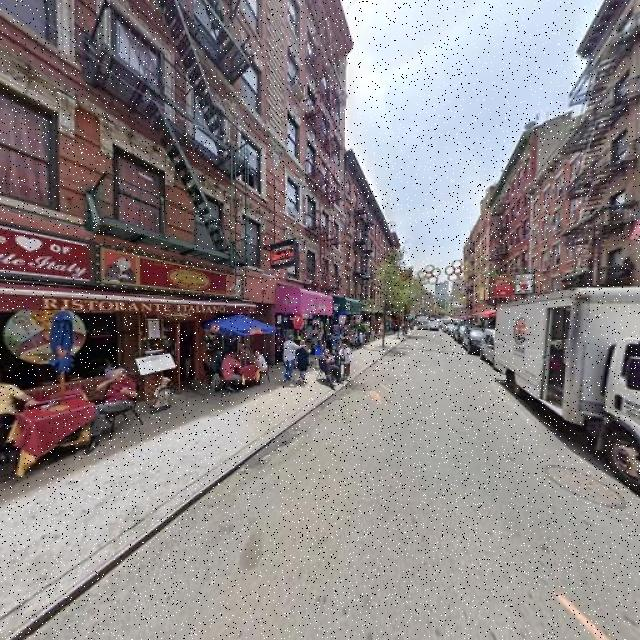Building: (1, 1, 274, 449), (277, 1, 344, 364), (585, 1, 640, 372), (532, 127, 577, 357), (347, 142, 394, 343)
